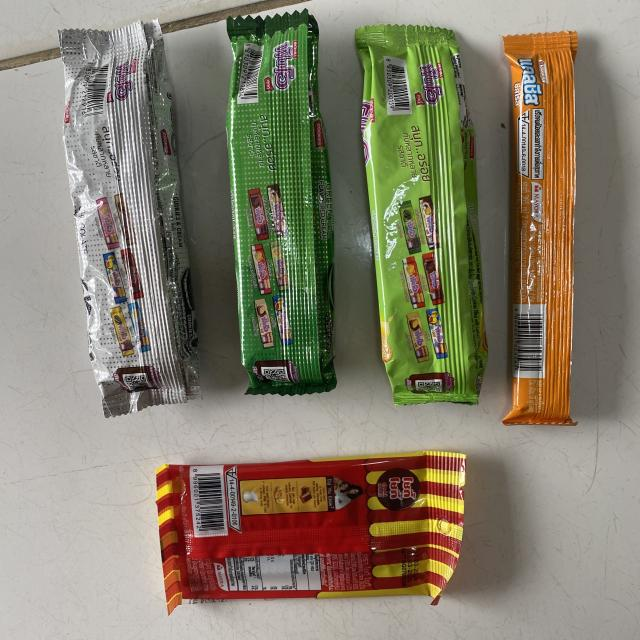plastik: (60, 21, 200, 418), (355, 25, 488, 405), (156, 451, 465, 614), (226, 10, 336, 395), (502, 31, 578, 425)
